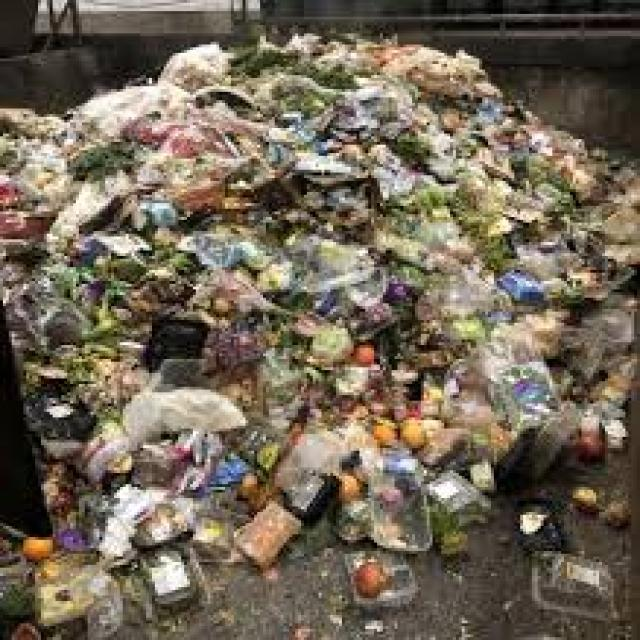food_waste: (22, 123, 583, 477)
